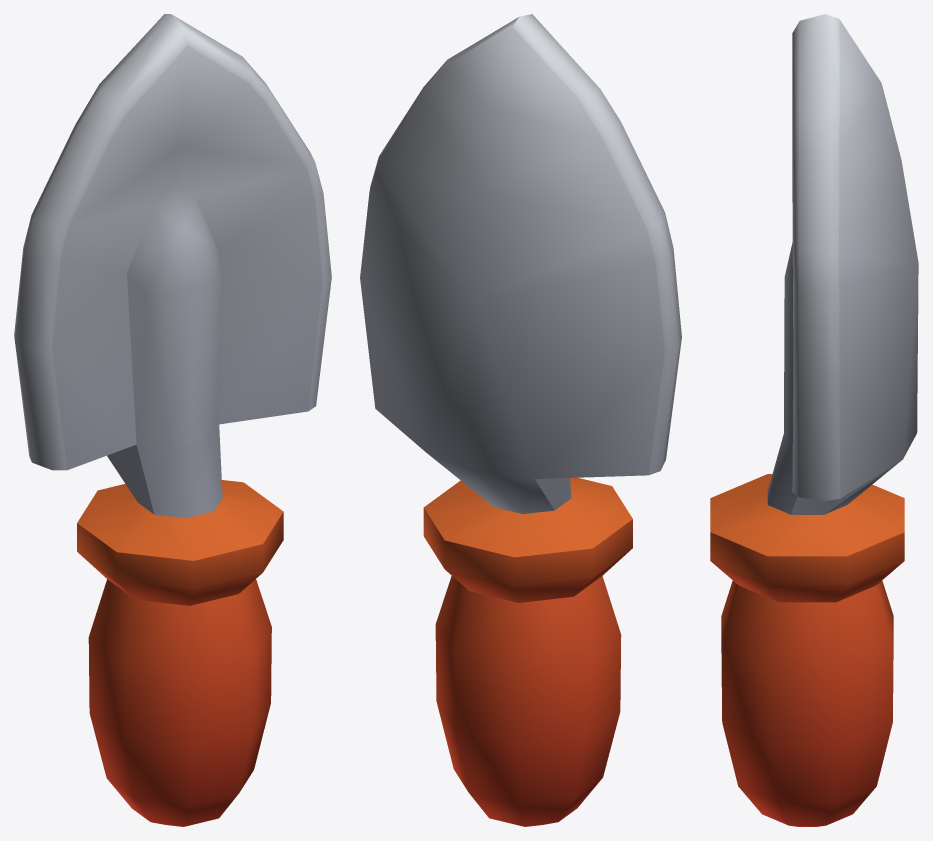
File: Hand Shovel.glb
3 views of the same model, side by side, from view 1: azimuth 30°, elevation 25°; view 2: azimuth 150°, elevation 25°; view 3: azimuth 270°, elevation 25° (orthographic).
Visible parts, largest first — view 1: shovel; view 2: shovel; view 3: shovel.
Boxes of the visible parts, <box> form: shovel: <box>14,14,331,826</box>; shovel: <box>360,14,681,826</box>; shovel: <box>710,14,918,826</box>.
Size of the model in its own units: 0.3409 by 0.8311 by 0.1951.
Materials: 1 (1 with a texture image).
